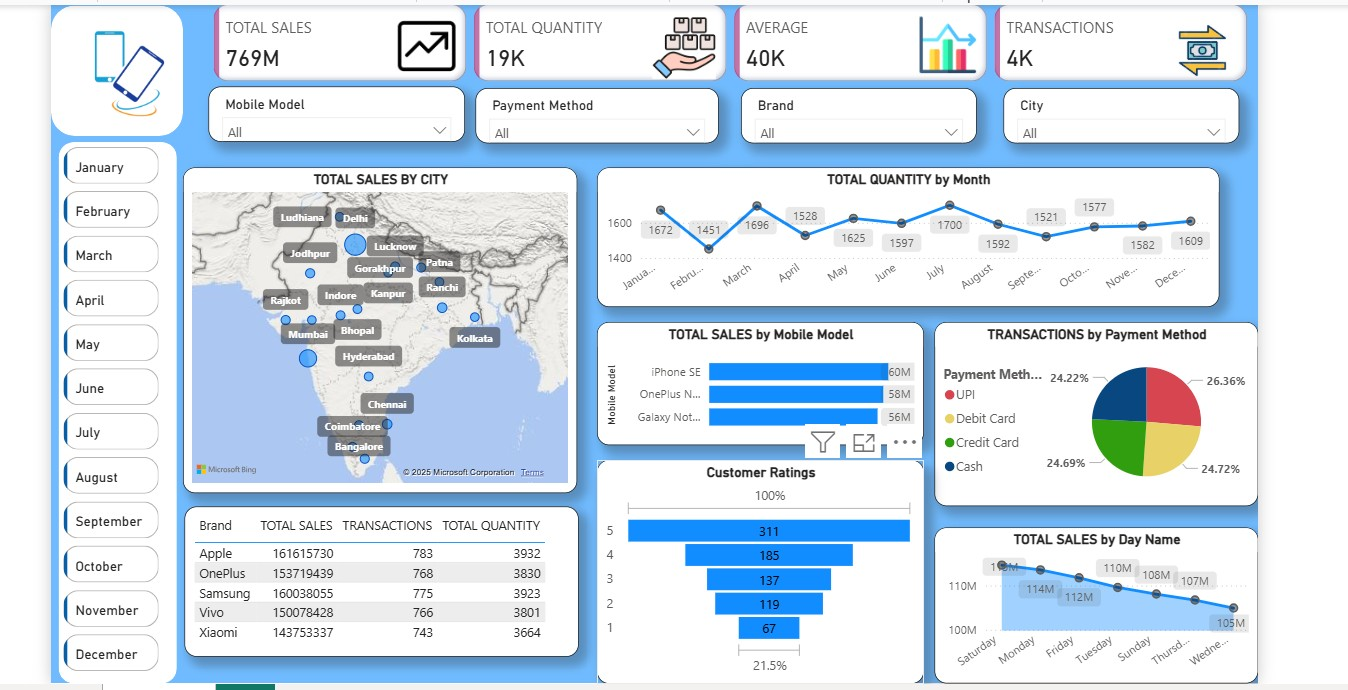

What the dashboard file says about the page in this screenshot:
{"tool":"powerbi","page":{"name":"Page 1","canvas":[1280,720],"ordinal":0},"visuals":[{"type":"shape","box":[0,1.6,140,138.4],"z":0},{"type":"shape","box":[8,146.3,125.7,574.2],"z":2000},{"type":"advancedSlicerVisual","fields":{"Values":["SALES DATA.DATE.Variation.Date Hierarchy.Month"]},"box":[8,146.3,111.3,574.2],"z":3000},{"type":"cardVisual","fields":{"Data":["SALES DATA.total_sales","SALES DATA.TOTAL QUANTITY","SALES DATA.AVERAGE","SALES DATA.TRANSACTIONS"]},"box":[167,0,1106,87],"z":4000},{"type":"map","title":"TOTAL SALES BY CITY","fields":{"Category":["SALES DATA.City"],"Size":["SALES DATA.TOTAL SALES"]},"box":[140,173.4,418.3,345.2],"z":5000},{"type":"lineChart","fields":{"Category":["SALES DATA.DATE.Variation.Date Hierarchy.Month","SALES DATA.DATE.Variation.Date Hierarchy.Day"],"Y":["SALES DATA.TOTAL QUANTITY"]},"box":[579,173.4,660.1,147.9],"z":6000},{"type":"barChart","fields":{"Category":["SALES DATA.Mobile Model"],"Y":["SALES DATA.TOTAL SALES"]},"box":[579,337.2,346.8,130.4],"z":7000},{"type":"pieChart","fields":{"Category":["SALES DATA.Payment Method"],"Y":["SALES DATA.TRANSACTIONS"]},"box":[936.9,337.2,343.6,195.6],"z":8000},{"type":"funnel","title":" Customer Ratings","fields":{"Category":["SALES DATA.Customer Ratings"],"Y":["CountNonNull(SALES DATA.Customer Ratings)"]},"box":[579,483.5,346.8,237],"z":9000},{"type":"areaChart","fields":{"Category":["SALES DATA.Day Name"],"Y":["SALES DATA.TOTAL SALES"]},"box":[936.9,555.1,343.6,165.4],"z":10000},{"type":"slicer","fields":{"Values":["SALES DATA.Mobile Model"]},"box":[167,87.5,272,58.9],"z":11000},{"type":"slicer","fields":{"Values":["SALES DATA.Payment Method"]},"box":[450.1,89.1,257.7,58.9],"z":11001},{"type":"slicer","fields":{"Values":["SALES DATA.Brand"]},"box":[731.7,89.1,249.7,58.9],"z":11002},{"type":"slicer","fields":{"Values":["SALES DATA.City"]},"box":[1010,89.1,249.7,58.9],"z":11003},{"type":"tableEx","fields":{"Values":["SALES DATA.Brand","SALES DATA.TOTAL SALES","SALES DATA.TRANSACTIONS","SALES DATA.TOTAL QUANTITY"]},"box":[141.6,532.9,418.3,159.1],"z":11004},{"type":"image","box":[0,0,167,147.9],"z":11005}]}

Visuals, with their boxes in screenshot pixels (x1, y1, x2, y2):
shape: (46,2,178,133)
shape: (53,139,172,682)
advancedSlicerVisual - SALES DATA.DATE.Variation.Date Hierarchy.Month: (53,139,159,682)
cardVisual - SALES DATA.total_sales x SALES DATA.TOTAL QUANTITY: (204,0,1251,82)
"TOTAL SALES BY CITY" map: (178,164,574,491)
lineChart - SALES DATA.DATE.Variation.Date Hierarchy.Month x SALES DATA.DATE.Variation.Date Hierarchy.Day: (594,164,1219,304)
barChart - SALES DATA.Mobile Model x SALES DATA.TOTAL SALES: (594,319,923,443)
pieChart - SALES DATA.Payment Method x SALES DATA.TRANSACTIONS: (933,319,1259,505)
" Customer Ratings" funnel: (594,458,923,682)
areaChart - SALES DATA.Day Name x SALES DATA.TOTAL SALES: (933,526,1259,682)
slicer - SALES DATA.Mobile Model: (204,83,461,139)
slicer - SALES DATA.Payment Method: (472,84,716,140)
slicer - SALES DATA.Brand: (739,84,975,140)
slicer - SALES DATA.City: (1002,84,1239,140)
tableEx - SALES DATA.Brand x SALES DATA.TOTAL SALES: (180,505,576,655)
image: (46,0,204,140)
